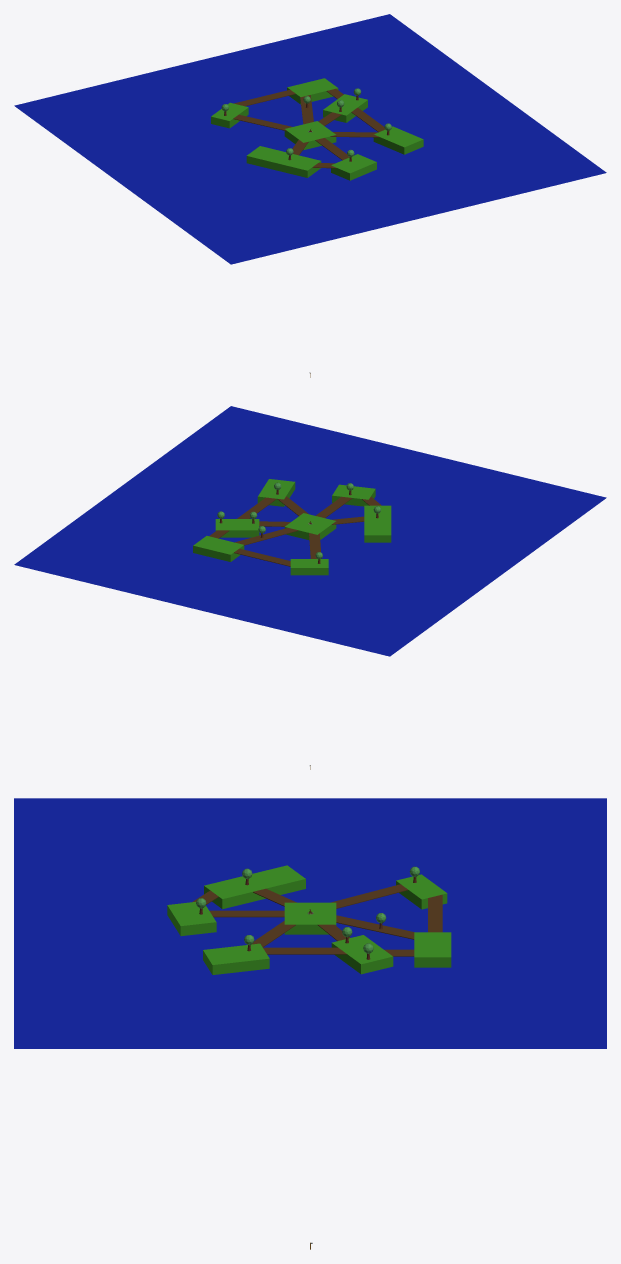
File: islands.gltf
3 views of the same model, one above another, from view 1: azimuth 30°, elevation 25°; view 2: azimuth 150°, elevation 25°; view 3: azimuth 270°, elevation 25° (orthographic). The views are drawn at different scales.
Parts seen in each view (by area): view 1: Water, Floor.003, Floor.000, Floor.002, Floor.005, Floor.001, Floor.006, Floor.004; view 2: Water, Floor.003, Floor.000, Floor.001, Floor.006, Floor.004, Floor.002, Floor.005; view 3: Water, Floor.003, Floor.002, Floor.000, Floor.006, Floor.001, Floor.005, Floor.004, Bridge.001, Bridge.006, Bridge.002.
Part boxes in pixels (<box>): Water: <box>14,14,606,264</box>; Floor.003: <box>246,146,321,177</box>; Floor.000: <box>284,121,336,150</box>; Floor.002: <box>373,126,423,154</box>; Floor.005: <box>331,154,376,180</box>; Floor.001: <box>287,78,338,104</box>; Floor.006: <box>323,94,367,122</box>; Floor.004: <box>211,102,248,128</box>; Water: <box>14,406,606,656</box>; Floor.003: <box>364,505,391,542</box>; Floor.000: <box>284,513,336,539</box>; Floor.001: <box>193,536,244,561</box>; Floor.006: <box>215,519,259,537</box>; Floor.004: <box>290,559,328,575</box>; Floor.002: <box>257,479,295,506</box>; Floor.005: <box>332,484,375,506</box>; Water: <box>14,798,606,1048</box>; Floor.003: <box>204,865,305,909</box>; Floor.002: <box>203,943,269,974</box>; Floor.000: <box>284,902,336,934</box>; Floor.006: <box>331,935,393,974</box>; Floor.001: <box>414,932,451,967</box>; Floor.005: <box>167,902,216,936</box>; Floor.004: <box>396,874,447,909</box>; Bridge.001: <box>336,915,414,939</box>; Bridge.006: <box>263,947,346,954</box>; Bridge.002: <box>331,884,407,908</box>.
Size of the model in its own units: 160 by 105 by 160.
24 materials, 24 textured.
